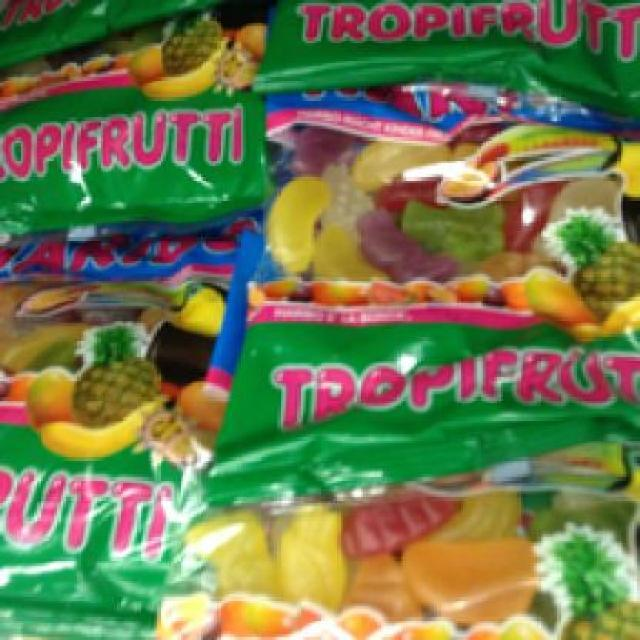Candy: (208, 60, 638, 463), (0, 200, 275, 606), (137, 432, 637, 634)
